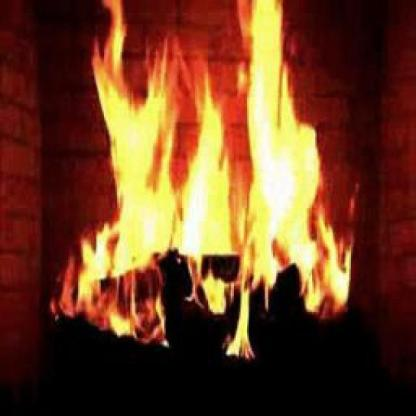fire: (45, 0, 359, 364)
